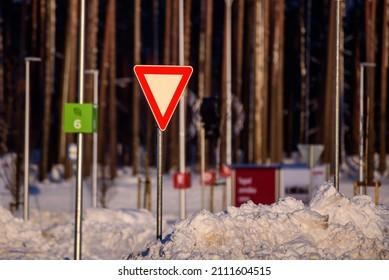Give Way: (126, 54, 206, 137)
